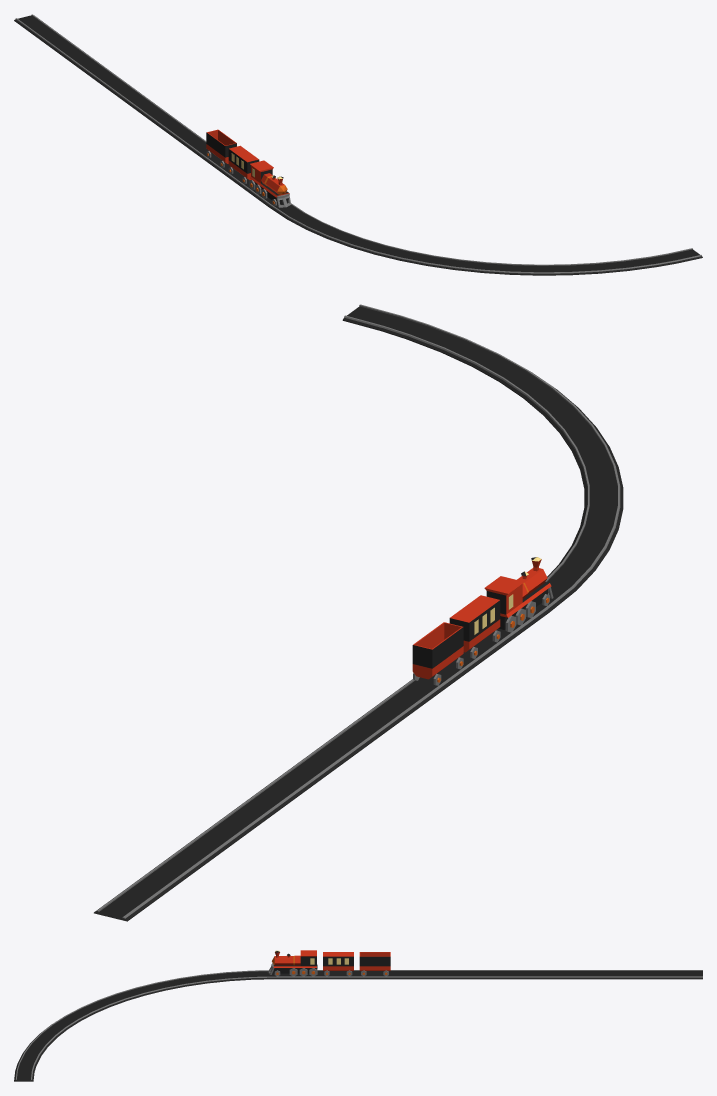
File: Train_and_rail.fbx
3 renders of one model, top to bottom at view 1: azimuth 30°, elevation 25°; view 2: azimuth 150°, elevation 25°; view 3: azimuth 270°, elevation 25°, orthographic. The views are drawn at different scales.
Visible parts, largest first — view 1: Rail_turn, Rail, Train, Carriage_2, Carriage_1; view 2: Rail_turn, Rail, Train, Carriage_2, Carriage_1; view 3: Rail, Rail_turn, Train, Carriage_2, Carriage_1.
Boxes of the visible parts, box(x1,y1,x2,y2) form: Rail_turn: box(268, 202, 702, 275); Rail: box(14, 14, 272, 206); Train: box(249, 160, 291, 207); Carriage_2: box(206, 129, 236, 167); Carriage_1: box(228, 145, 259, 184); Rail_turn: box(342, 304, 623, 612); Rail: box(94, 608, 548, 921); Train: box(484, 557, 553, 632); Carriage_2: box(412, 622, 463, 685); Carriage_1: box(449, 595, 500, 658); Rail: box(281, 970, 702, 979); Rail_turn: box(14, 970, 281, 1081); Train: box(267, 950, 317, 976); Carriage_2: box(359, 952, 390, 976); Carriage_1: box(323, 952, 353, 976).
Size of the model in its own units: 356 by 36.32 by 936.
